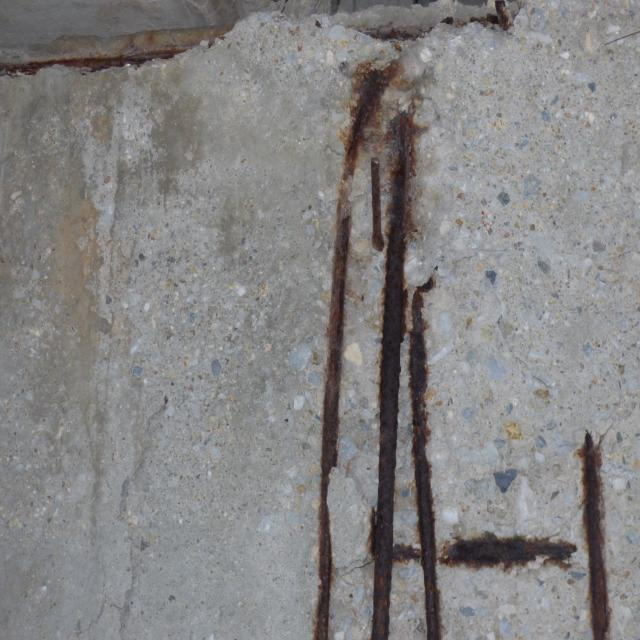corrosion: (283, 0, 640, 640), (0, 23, 234, 86)
